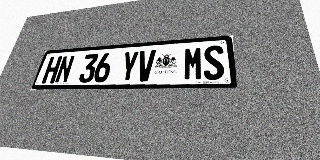3: (78, 54, 99, 83)
6: (92, 53, 113, 82)
H: (41, 56, 62, 84)
M: (183, 46, 203, 80)
N: (54, 55, 75, 83)
S: (203, 45, 225, 80)
V: (135, 50, 156, 81)
Y: (119, 51, 139, 82)
